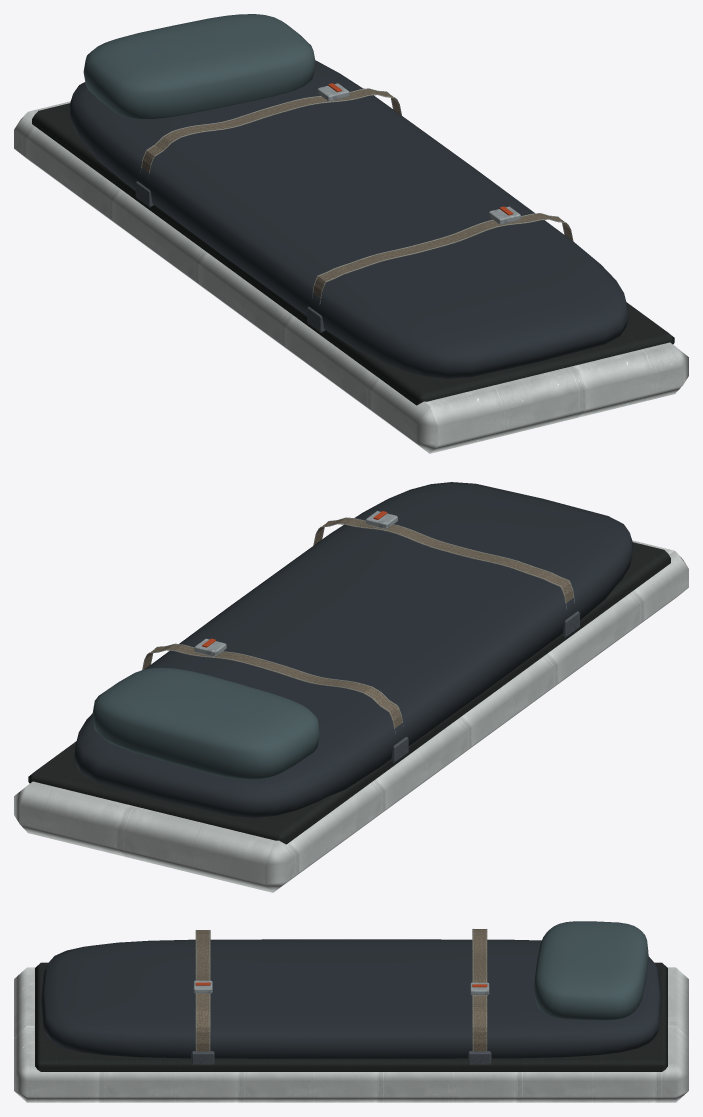
File: prop_bunk.fbx
The picture shows the model from 3 angles, top to bottom: view 1: azimuth 30°, elevation 25°; view 2: azimuth 150°, elevation 25°; view 3: azimuth 270°, elevation 25°; orthographic projection. The views are drawn at different scales.
Visible parts, largest first — view 1: SM_prop_bunk; view 2: SM_prop_bunk; view 3: SM_prop_bunk.
Boxes of the visible parts, <box> form: SM_prop_bunk: <box>14,14,688,453</box>; SM_prop_bunk: <box>14,482,688,892</box>; SM_prop_bunk: <box>14,921,688,1102</box>.
Bounding box in the file's own units: 0.915 × 0.404 × 2.43.
9 materials, 9 textured.
